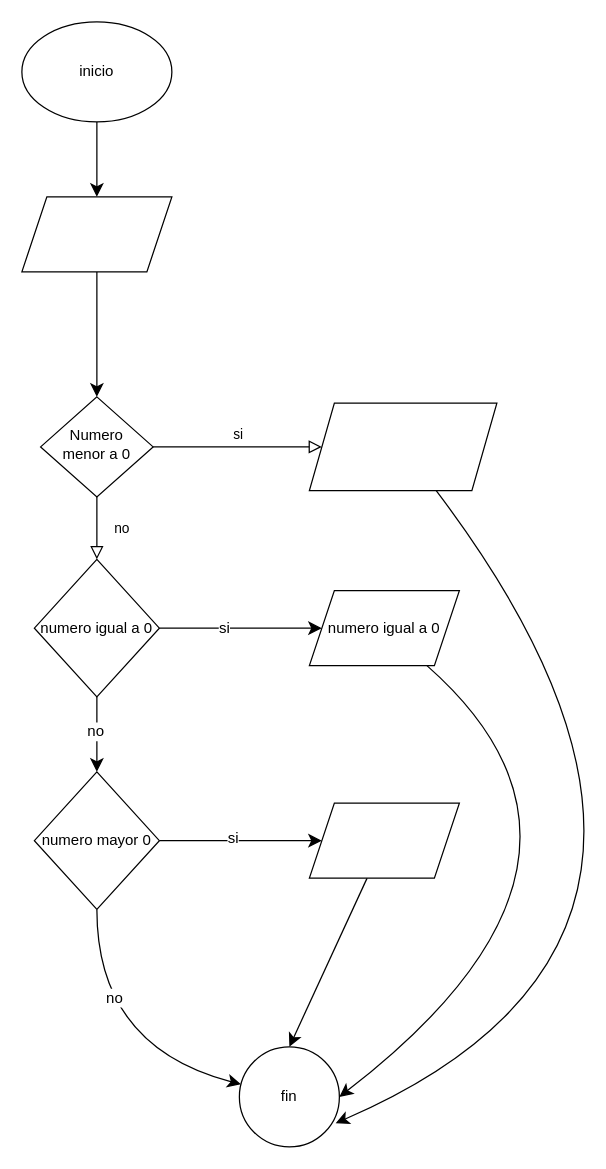
Image size: 606x1169. Some labels were removed from this diagram. Each missing label, with the box of its shape:
Imprima numero es negativo: (308, 402, 497, 491)
Ingresa numero: (21, 196, 172, 272)
numero es positivo: (308, 802, 459, 878)
